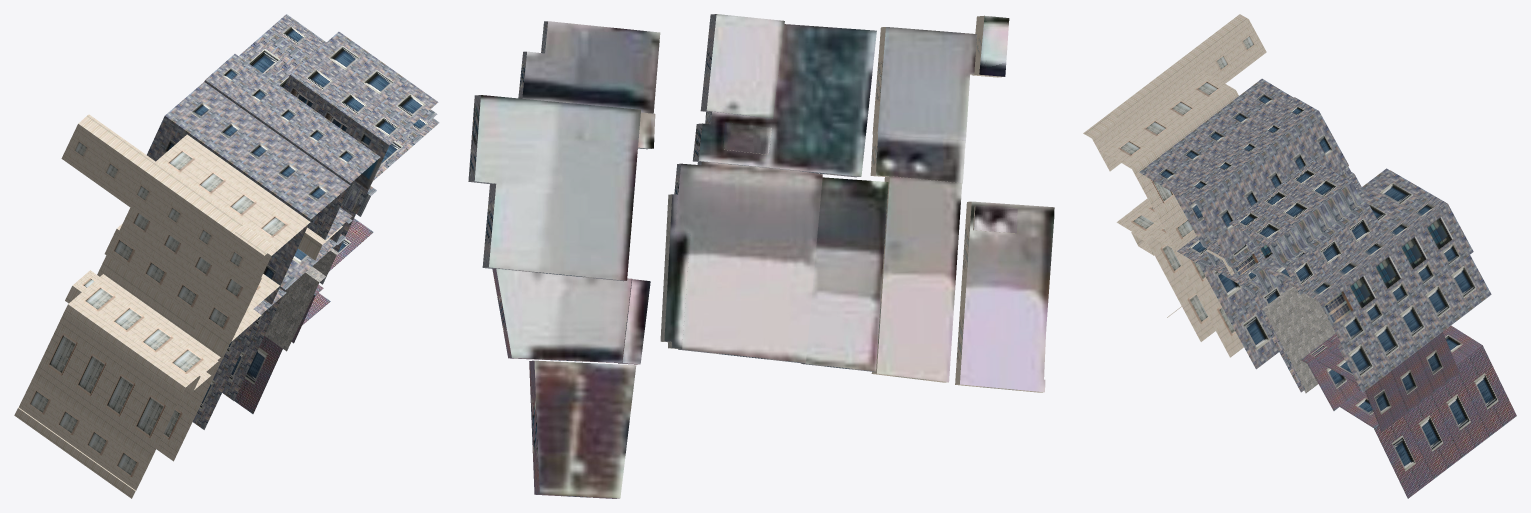
3 views of the same model, side by side, from view 1: azimuth 30°, elevation 25°; view 2: azimuth 150°, elevation 25°; view 3: azimuth 270°, elevation 25° (orthographic). The views are drawn at different scales.
Size of the model in its own units: 44.43 by 38.6 by 42.19.
Materials: 53 (53 with a texture image).
